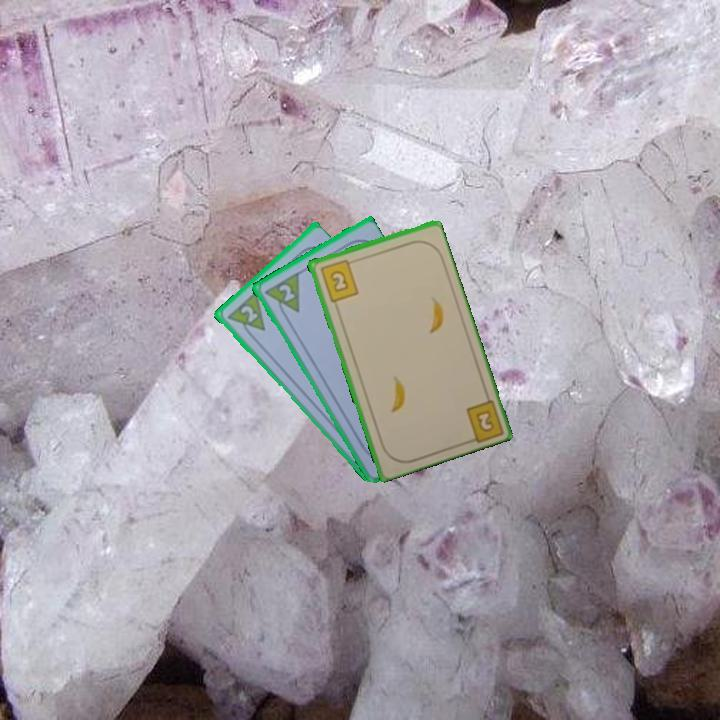2b: (316, 256, 361, 305), (472, 406, 497, 435)
2p: (260, 269, 302, 322), (236, 301, 260, 325)
